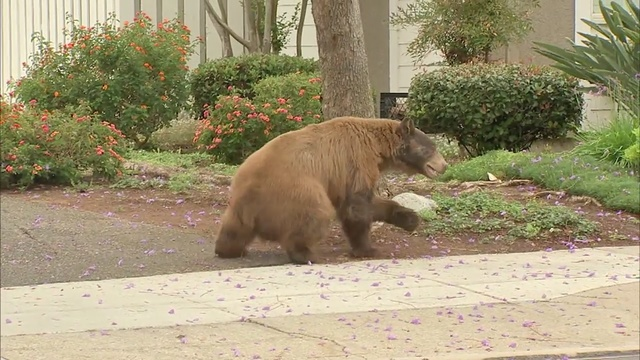bear: (393, 114, 454, 181)
